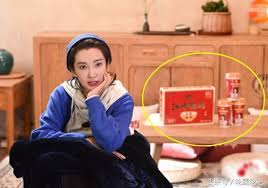box: (159, 85, 214, 126)
cup: (225, 72, 240, 99), (218, 100, 231, 126), (233, 99, 245, 125)
